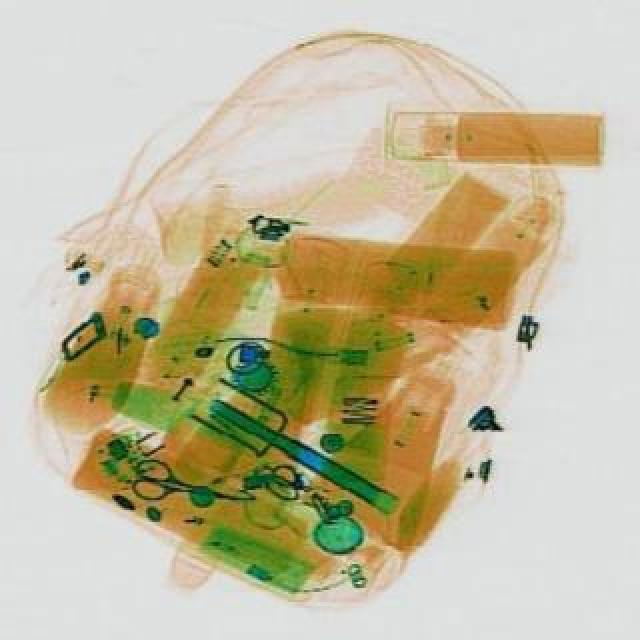pliers: (124, 454, 224, 510)
